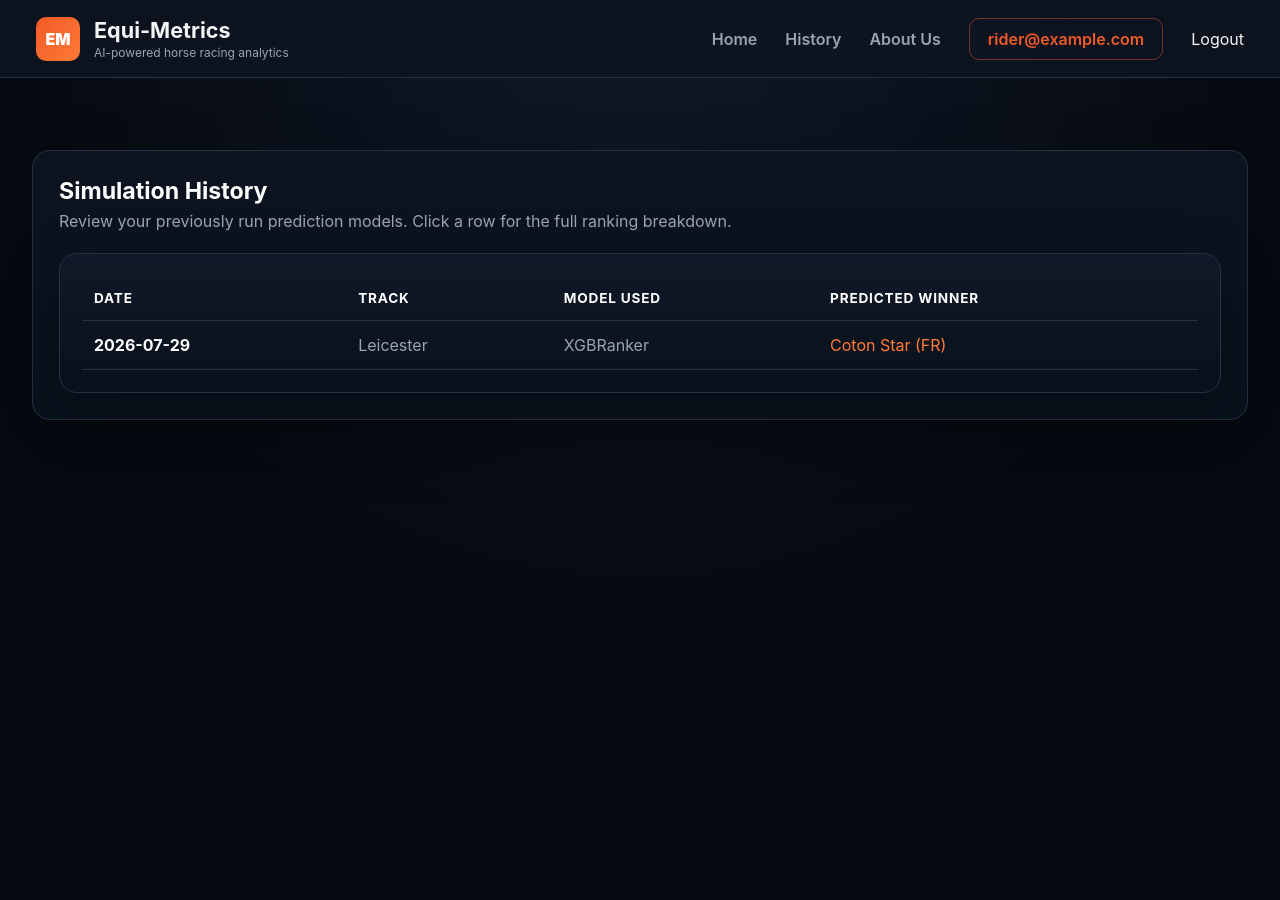
it: History › clicking a row fetches and shows the full per-horse breakdown
Step 1. Click the text "Leicester" → (449, 345), box [346,320,552,370]
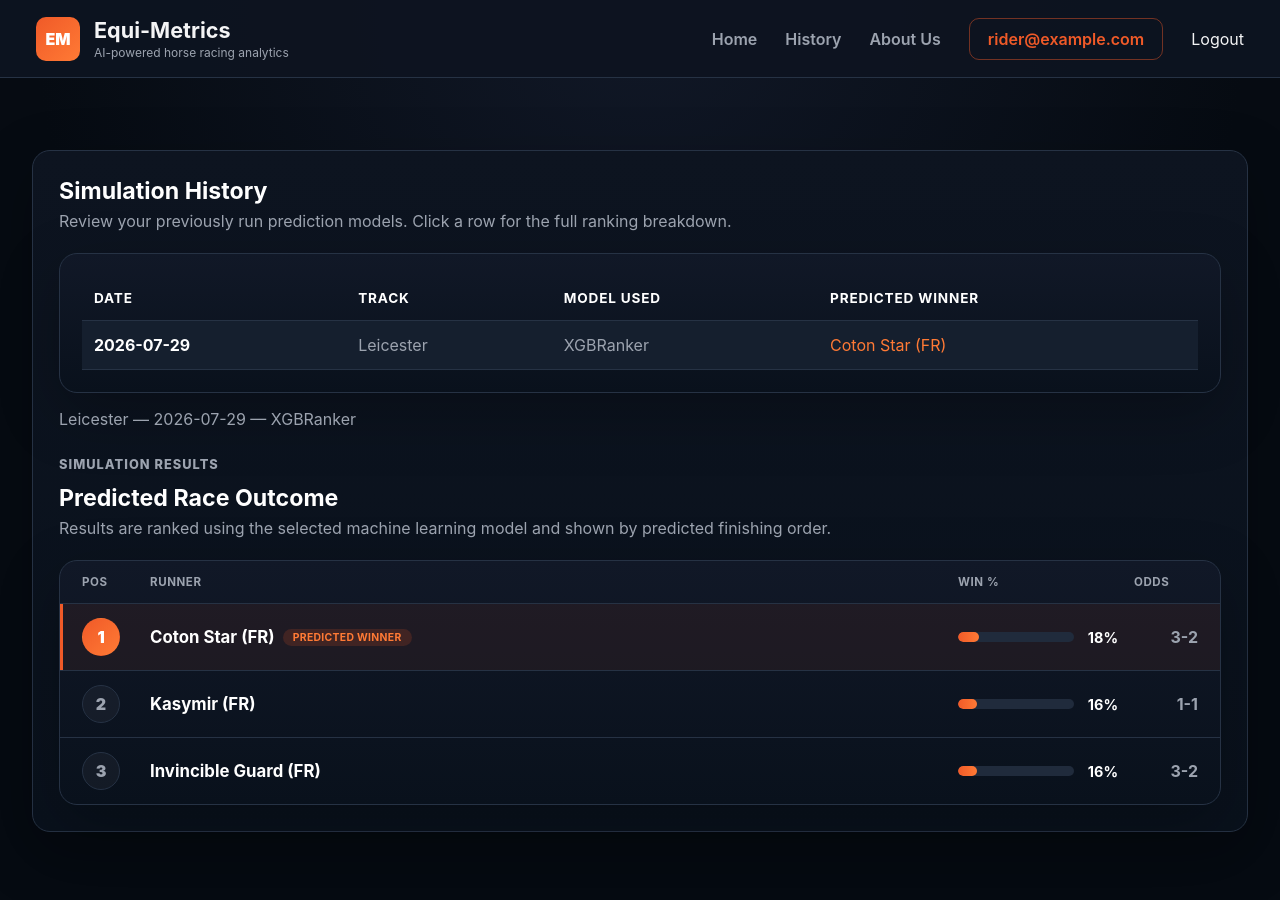
Now the heading "Kasymir (FR)" is shown, box [150,694,256,714]
Now the heading "Invincible Guard (FR)" is shown, box [150,761,321,781]
